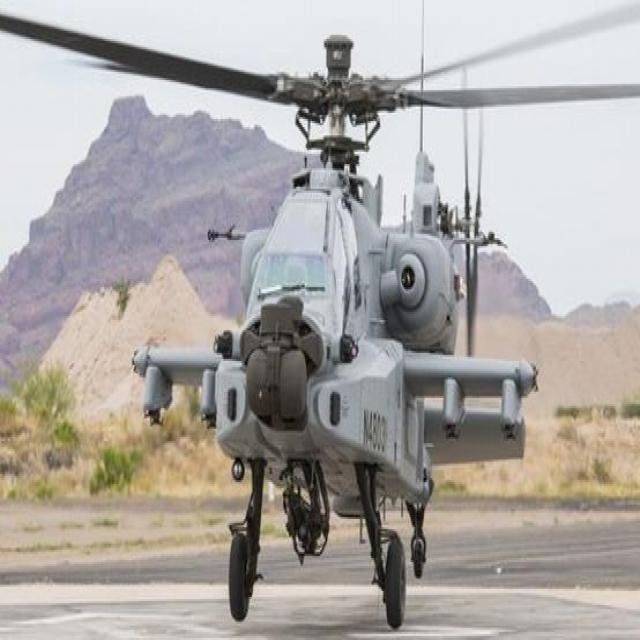MIL_HELO: (0, 0, 637, 627)
